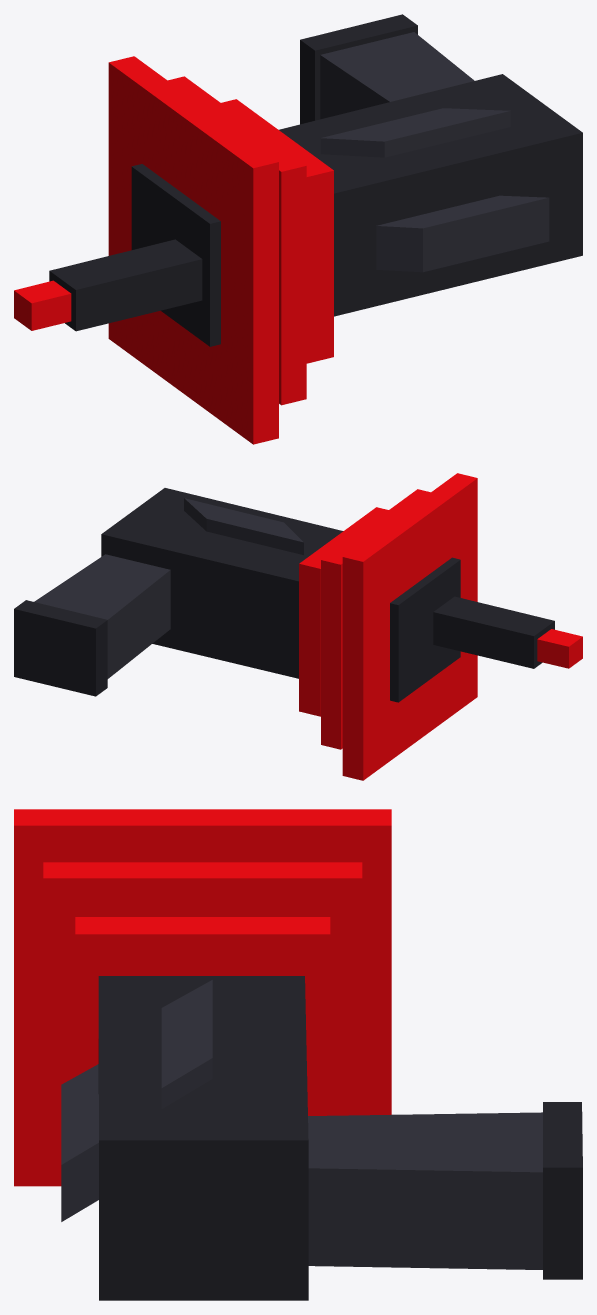
File: Gun 02.FBX
The picture shows the model from 3 angles, top to bottom: view 1: azimuth 30°, elevation 25°; view 2: azimuth 150°, elevation 25°; view 3: azimuth 270°, elevation 25°; orthographic projection. The views are drawn at different scales.
Parts seen in each view (by area): view 1: Gun 02; view 2: Gun 02; view 3: Gun 02.
Boxes of the visible parts, box(x1,y1,x2,y2) form: Gun 02: box(14, 14, 582, 444); Gun 02: box(14, 473, 582, 780); Gun 02: box(14, 809, 582, 1300).
Bounding box in the file's own units: 32.56 × 15.79 × 22.57.
